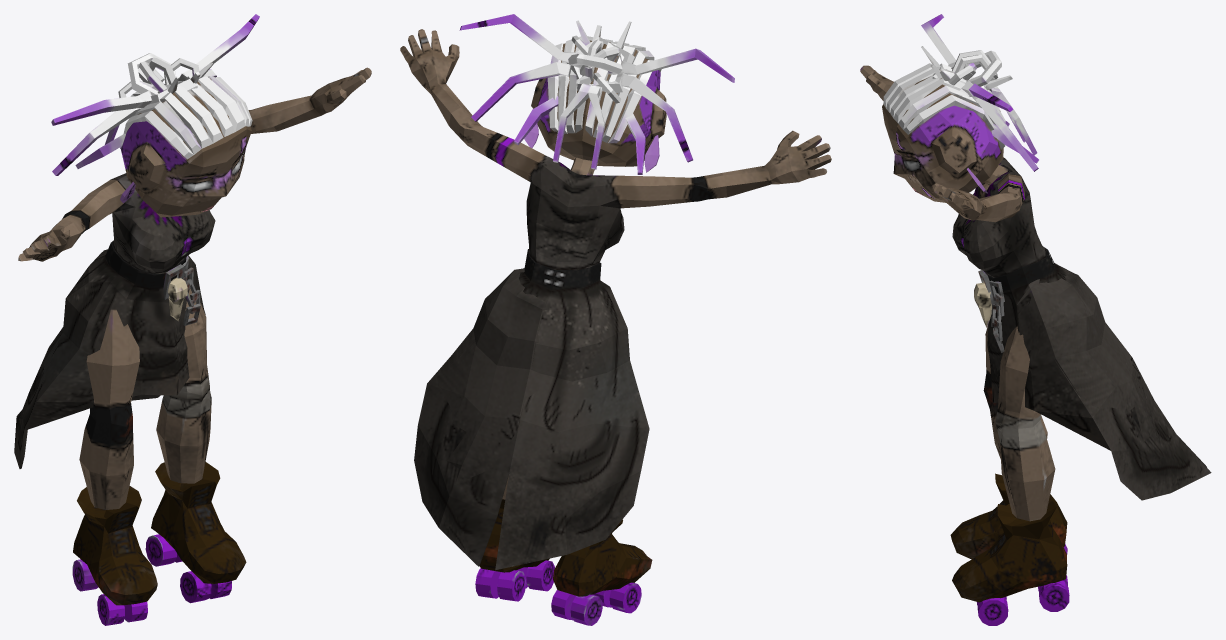
Rendered from bruja_000128.obj.
3 renders of one model, left to right at view 1: azimuth 30°, elevation 25°; view 2: azimuth 150°, elevation 25°; view 3: azimuth 270°, elevation 25°, orthographic. The views are drawn at different scales.
Parts seen in each view (by area): view 1: Bruja_Plane.001; view 2: Bruja_Plane.001; view 3: Bruja_Plane.001.
Boxes of the visible parts, box(x1,y1,x2,y2) form: Bruja_Plane.001: box(14, 14, 371, 625); Bruja_Plane.001: box(400, 14, 831, 625); Bruja_Plane.001: box(860, 14, 1211, 625).
Size of the model in its own units: 11.61 by 16.22 by 9.45.
